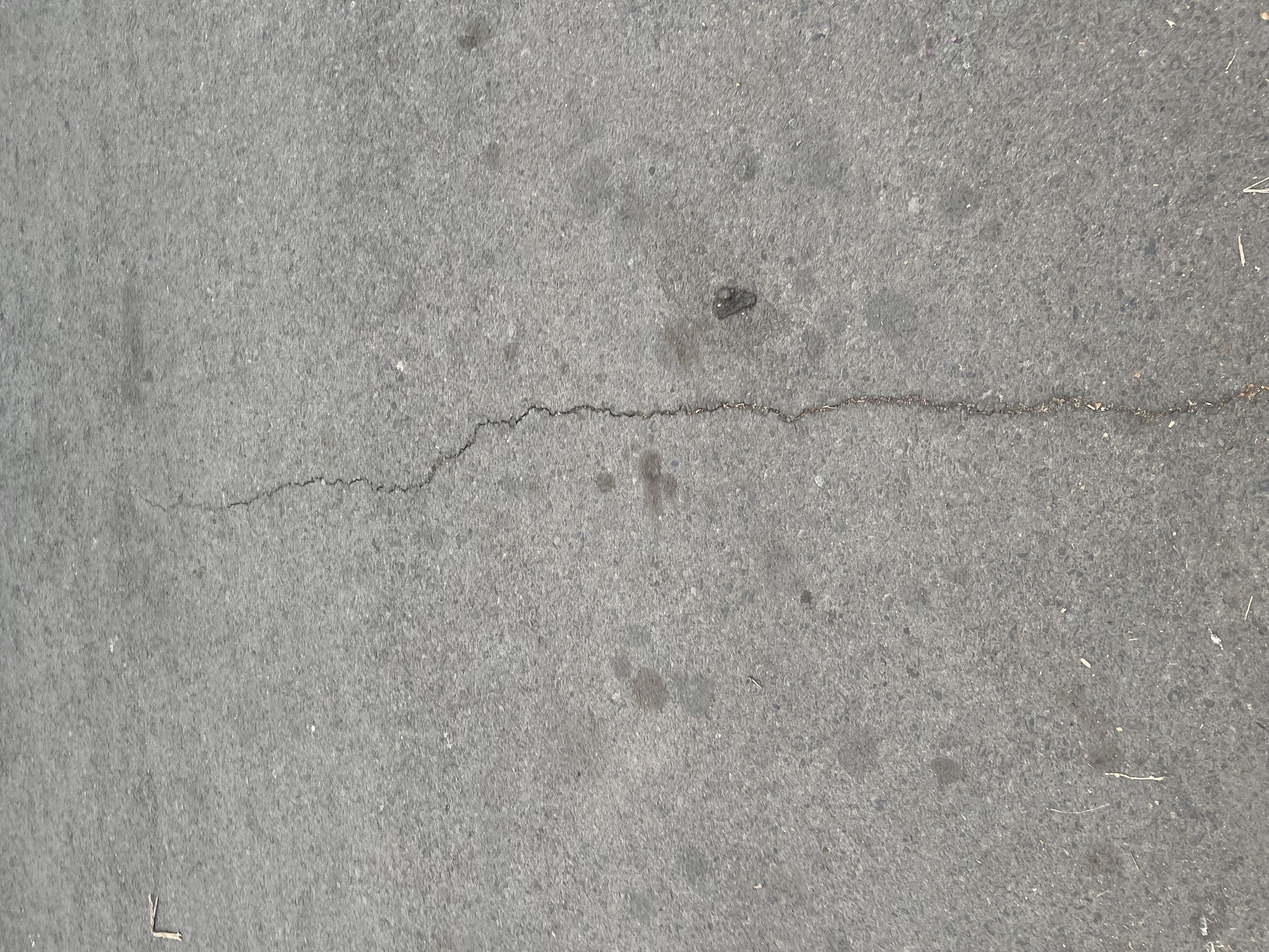GRIETA: (323, 383, 1269, 495), (176, 474, 321, 511)
